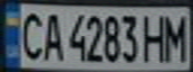2: (81, 10, 106, 62)
3: (118, 11, 142, 63)
4: (63, 9, 87, 62)
8: (103, 11, 124, 63)
A: (39, 9, 66, 62)
C: (15, 7, 45, 61)
H: (139, 11, 172, 63)
M: (160, 11, 190, 62)
